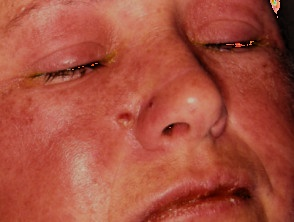SJS-TEN: (132, 174, 255, 222), (244, 23, 294, 61), (87, 37, 130, 78), (0, 68, 47, 92), (184, 26, 216, 58)
